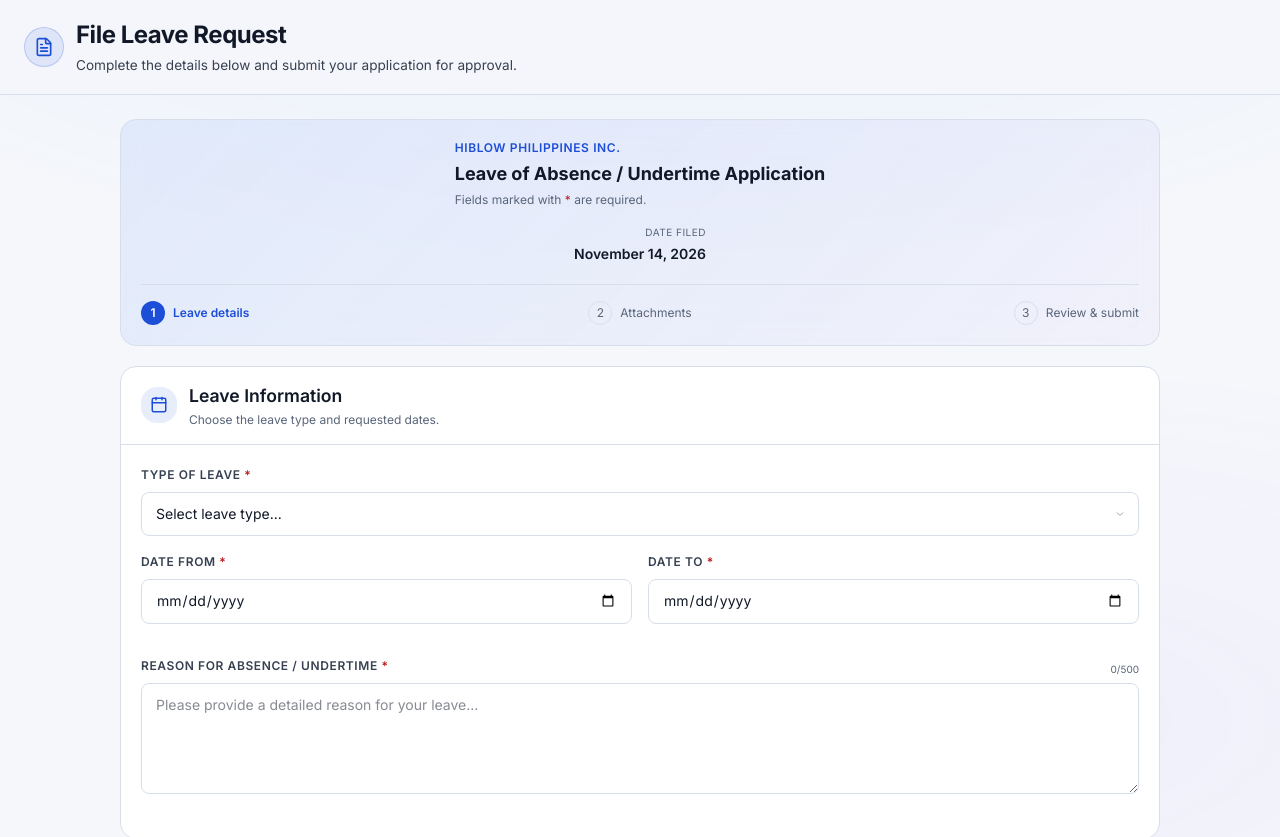
Test: operator chooses department line leader at filing › shows missing department configuration instead of silently skipping the leader
Step 1. Select "VL — Vacation" in the dropdown labelled "Type of Leave *" → x=640, y=514, box [141,492,1139,536]
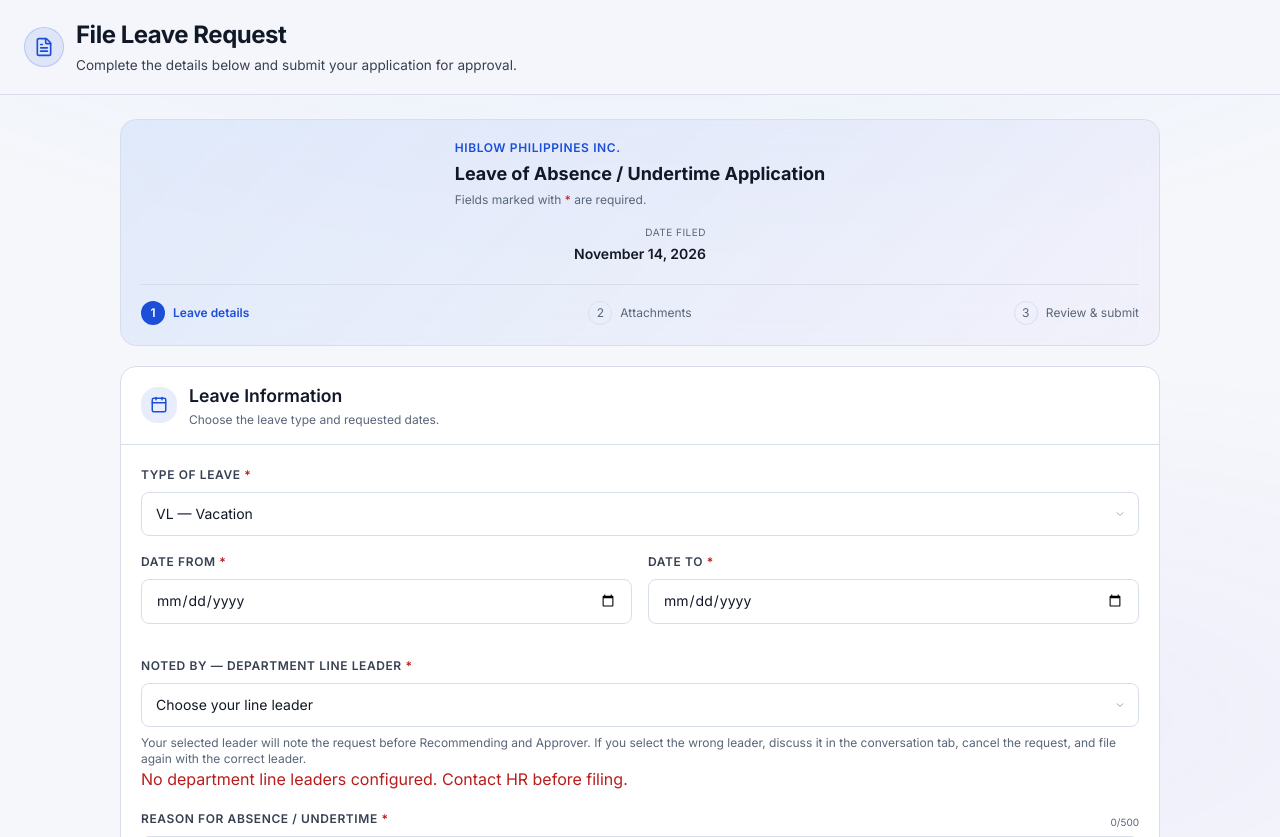
Now the dropdown labelled "Noted by — department line leader *" is shown, box [141,683,1139,727]
Now the message shows "No department line leaders configured", box [141,769,628,789]
